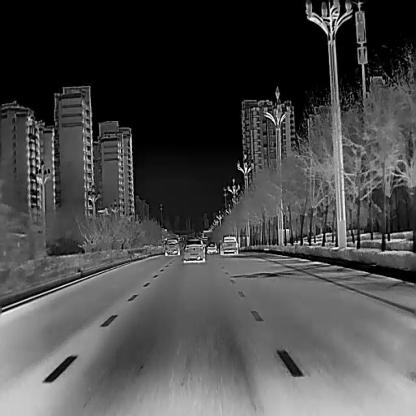car: (182, 238, 205, 262), (219, 234, 238, 254), (163, 237, 180, 256), (206, 240, 217, 254)
